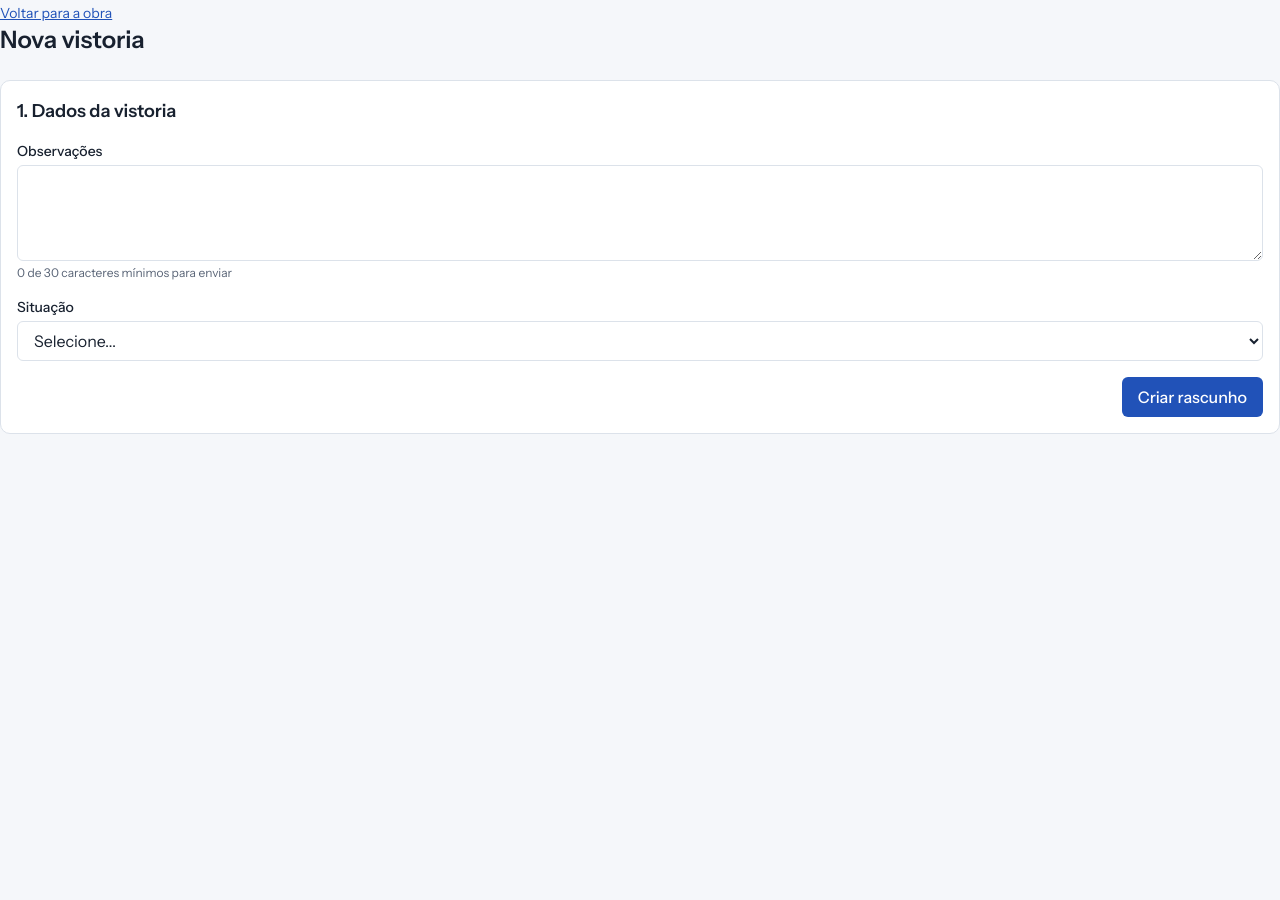
NewInspectionPage › submits and goes to the inspection with a toast
Type "Observação suficientemente detalhada para o envio." into the text box labelled "Observações".
click(640, 213); type("Observação suficientemente detalhada para o envio.")  # box [17,165,1263,261]
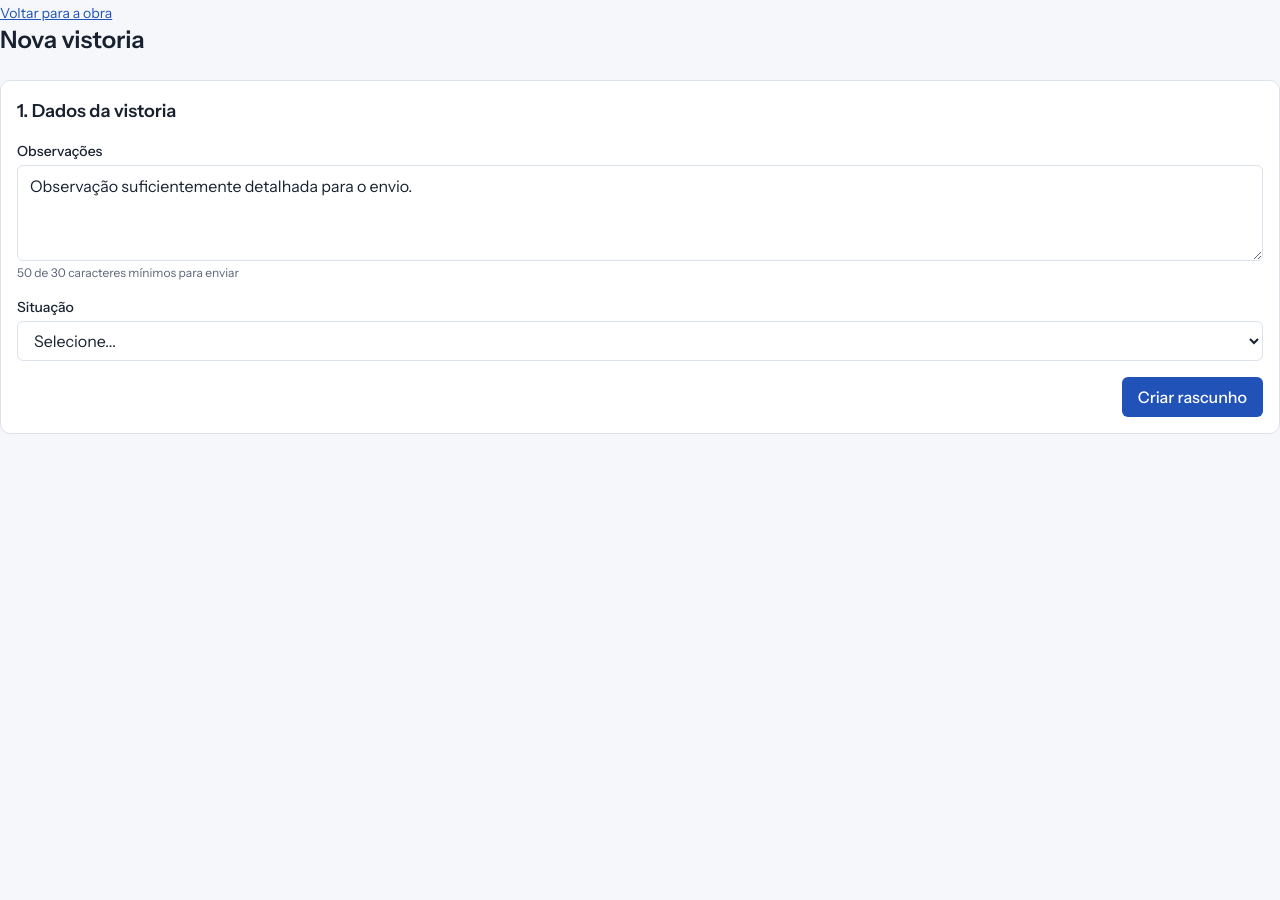
Select "Conforme" in the dropdown labelled "Situação" at (640, 341), box [17,321,1263,361]
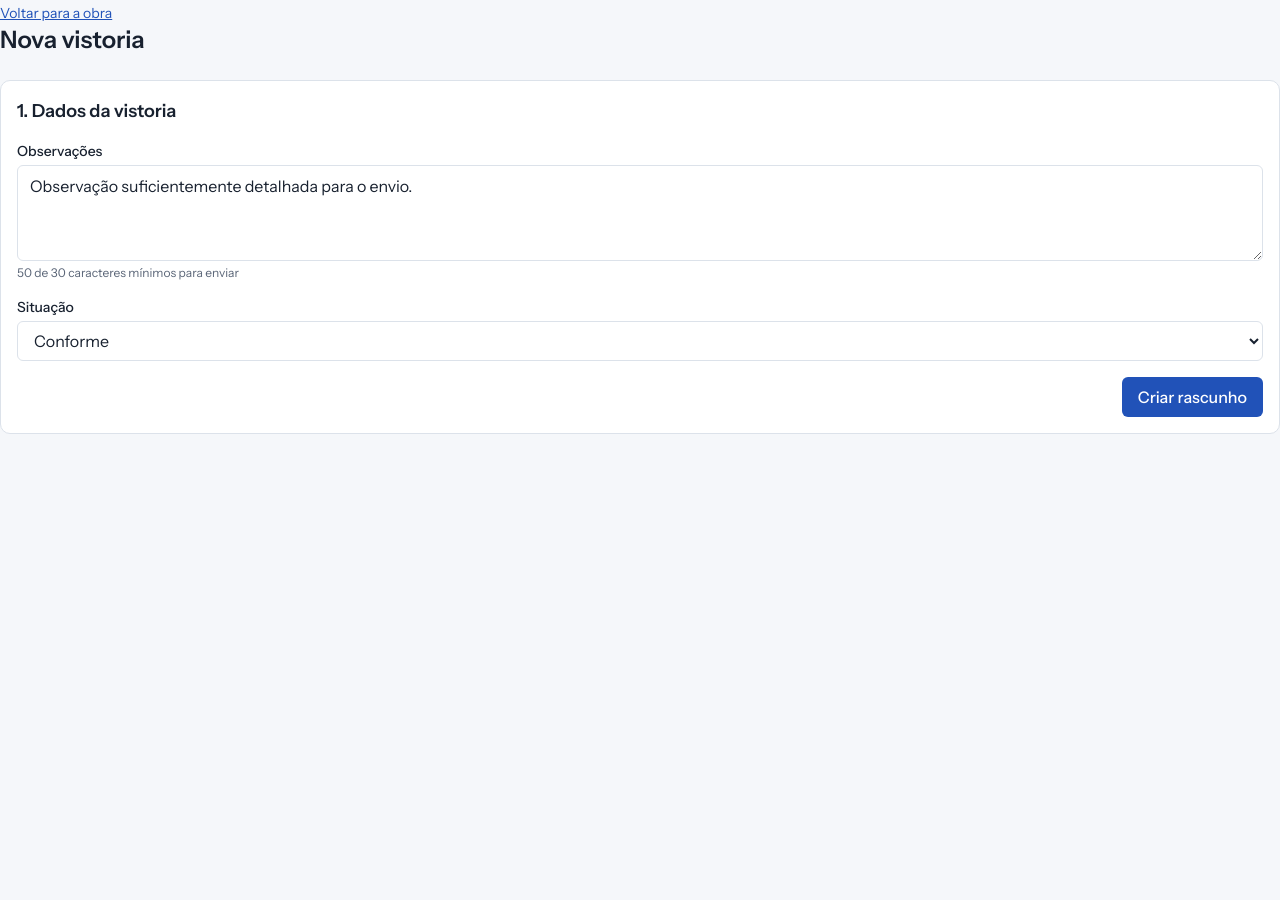
Click the button "Criar rascunho".
click(1192, 397)  # box [1122,377,1263,417]
(page scrolled)
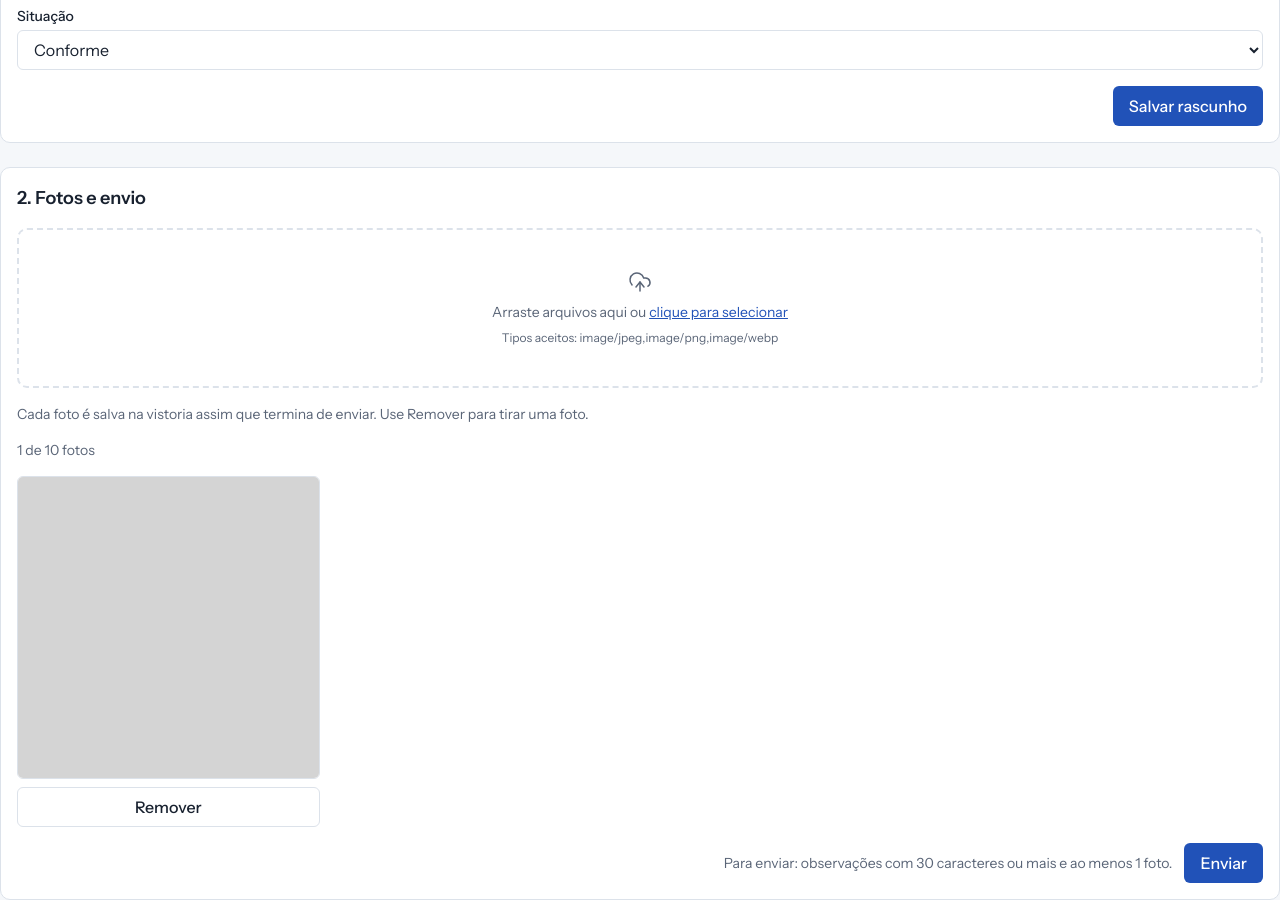
Check: the heading "2. Fotos e envio" is shown, box [17,187,146,209]
Check: the button "Enviar" is enabled
Click the button "Enviar".
click(1224, 862)  # box [1184,842,1263,882]
(page scrolled)
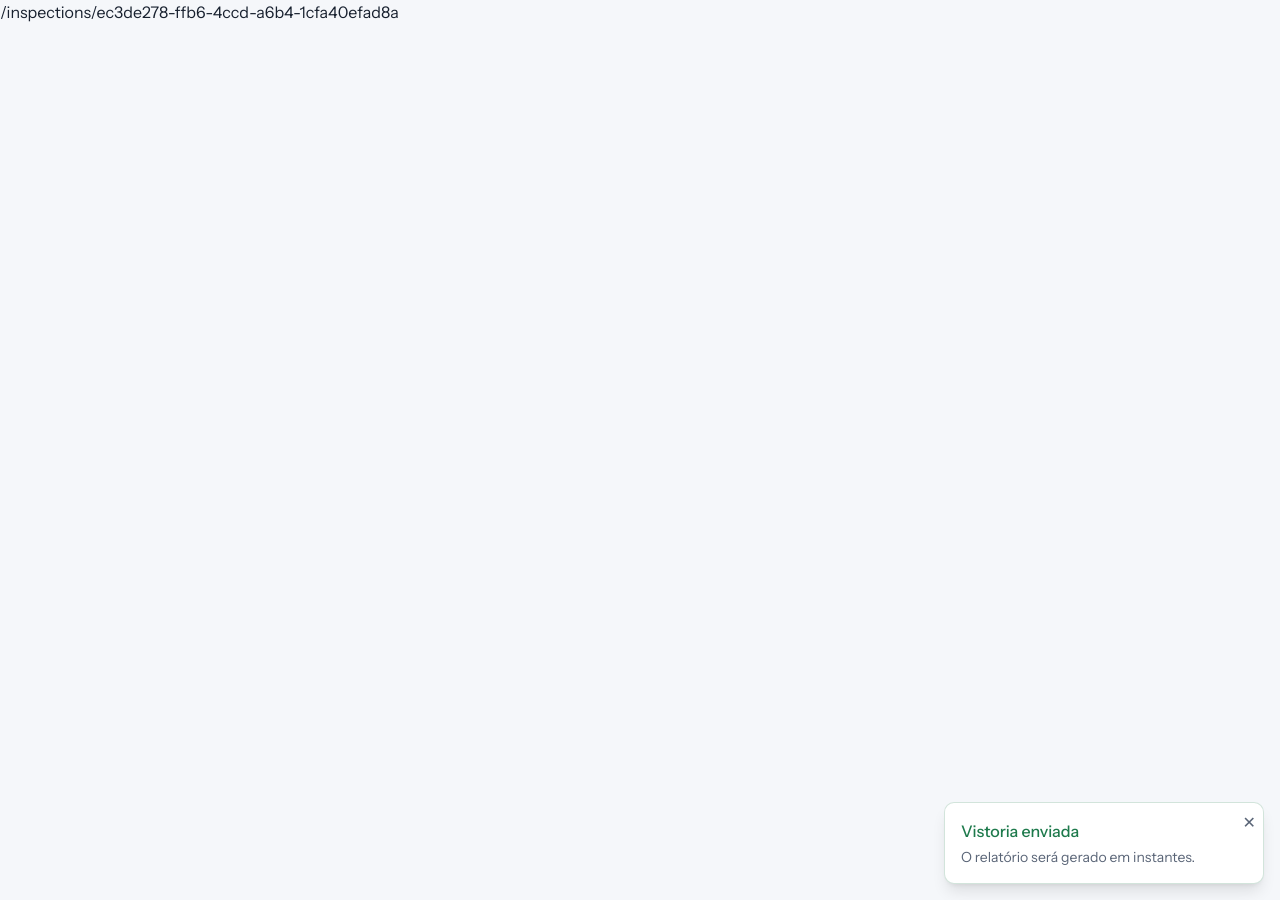
Check: the text "Vistoria enviada" is shown, box [961,821,1079,841]
